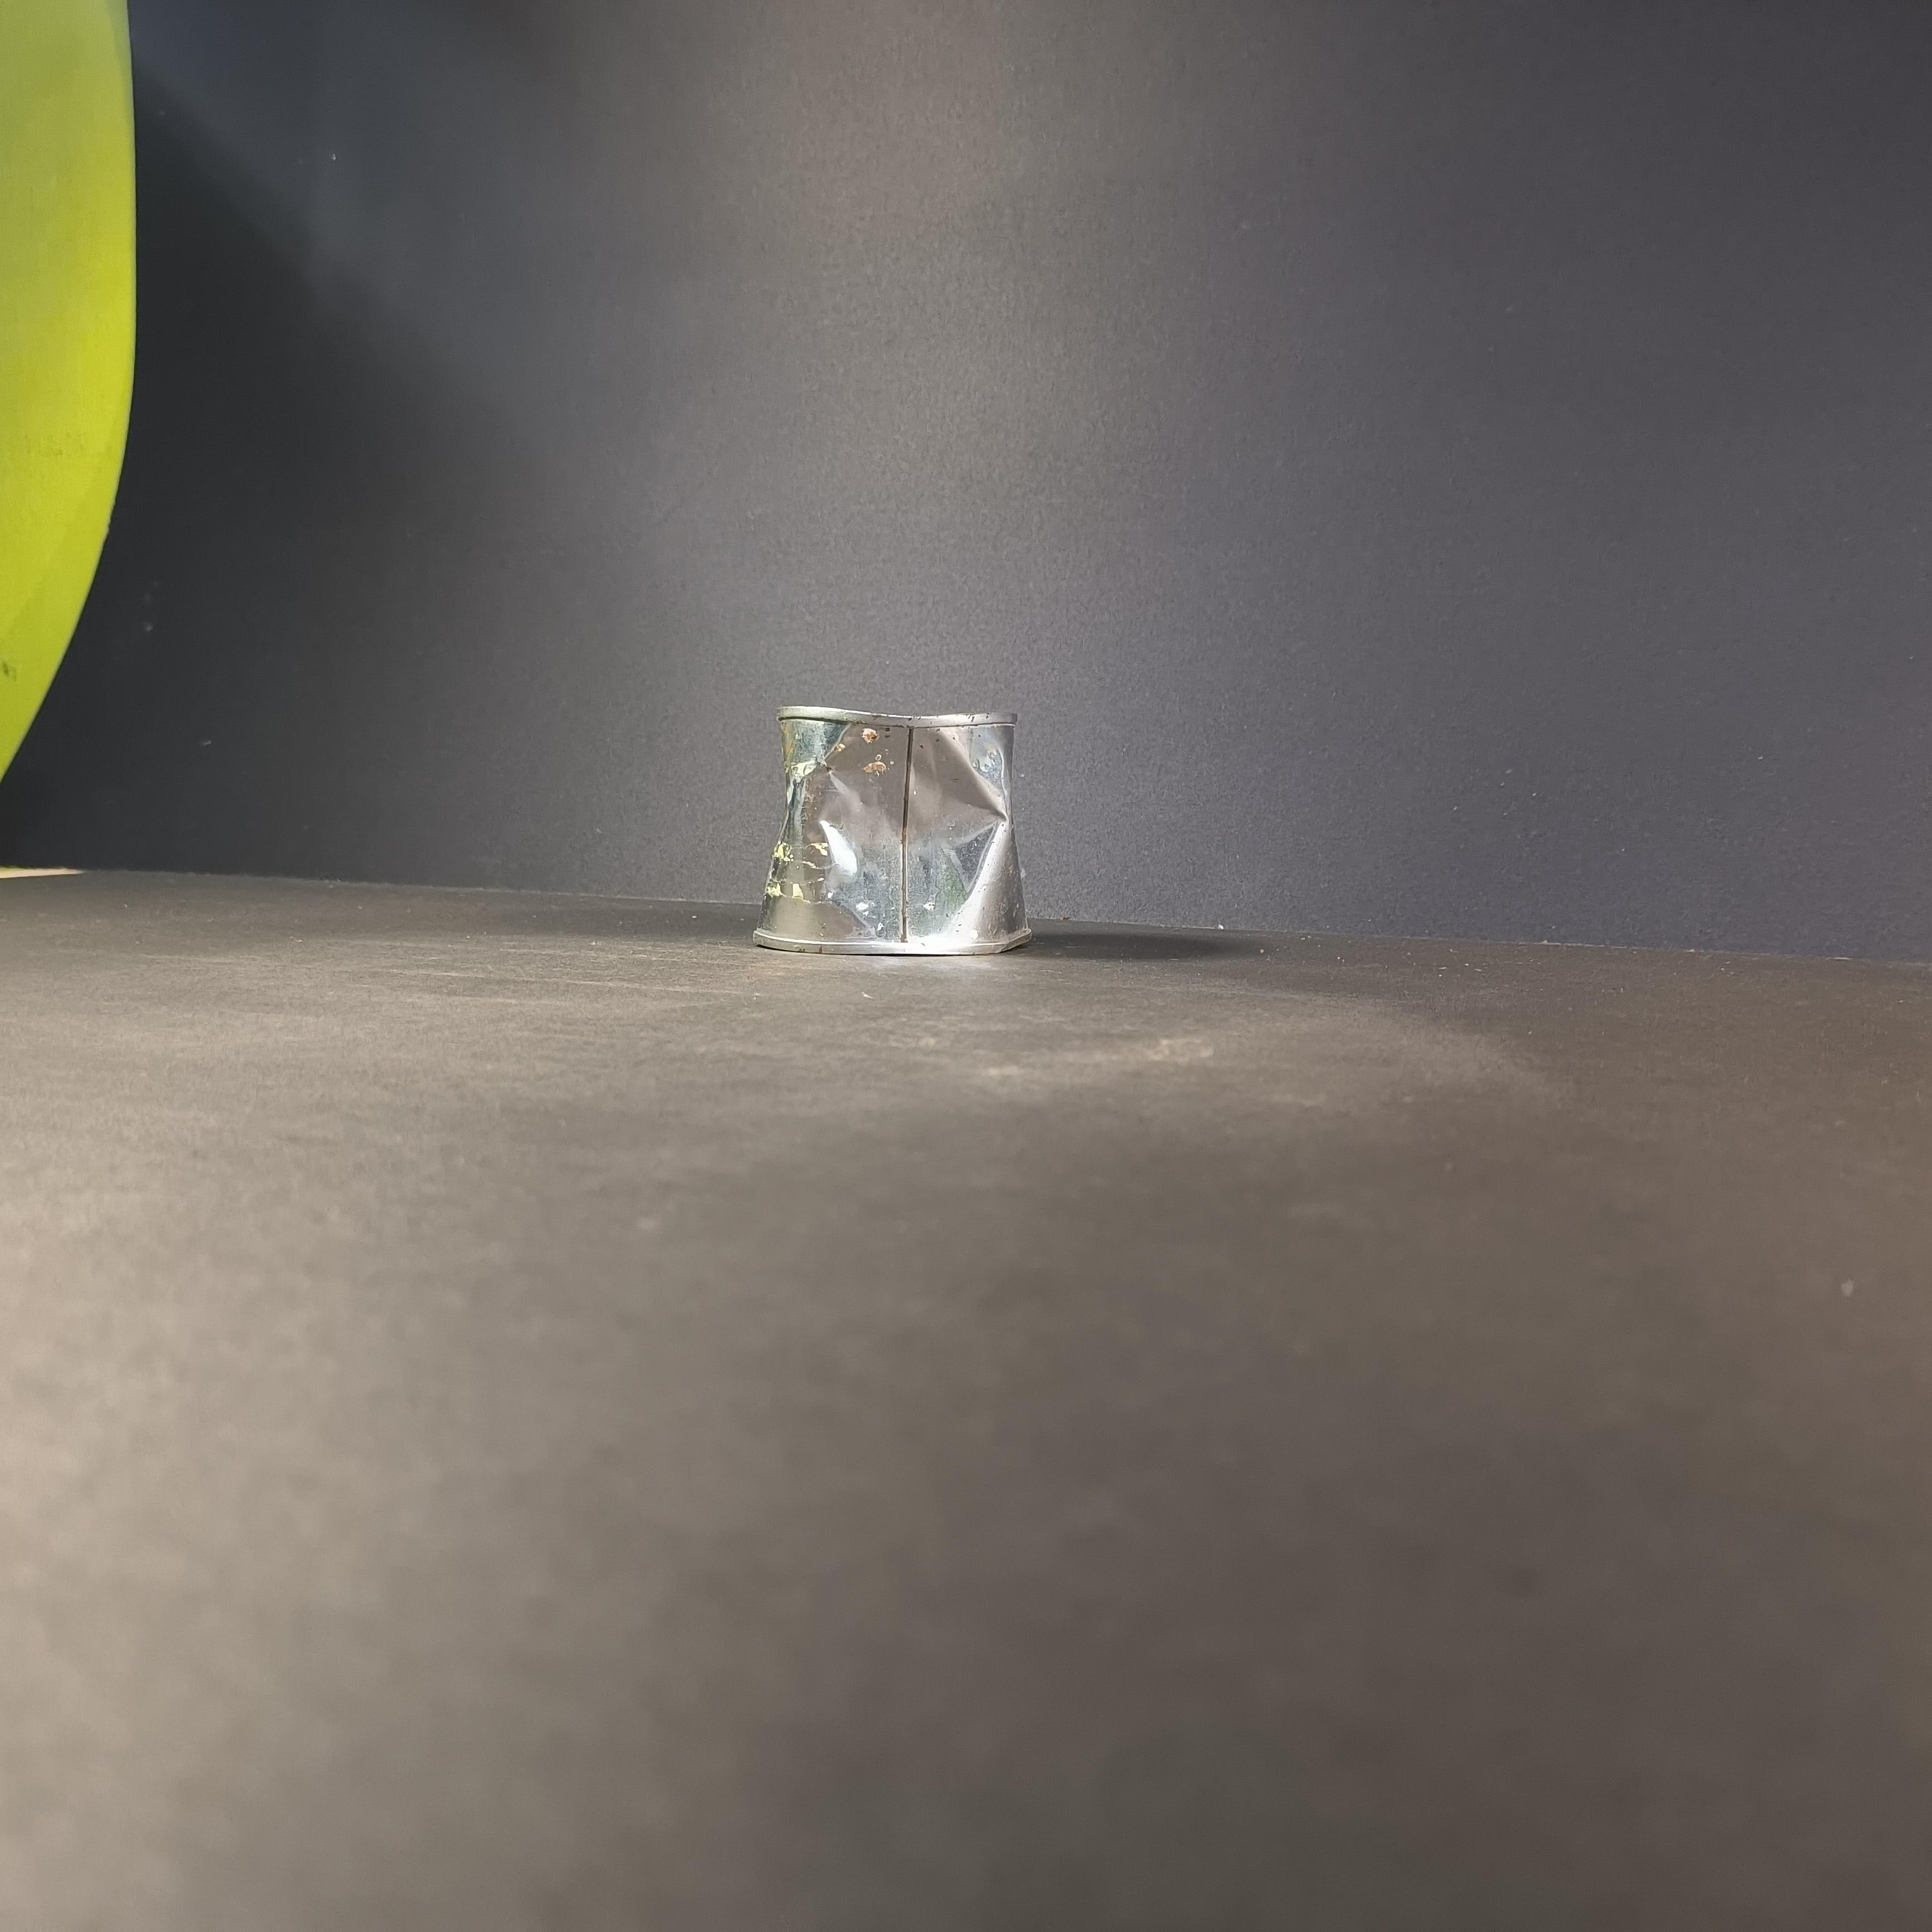Dented: (735, 668, 1063, 990)
